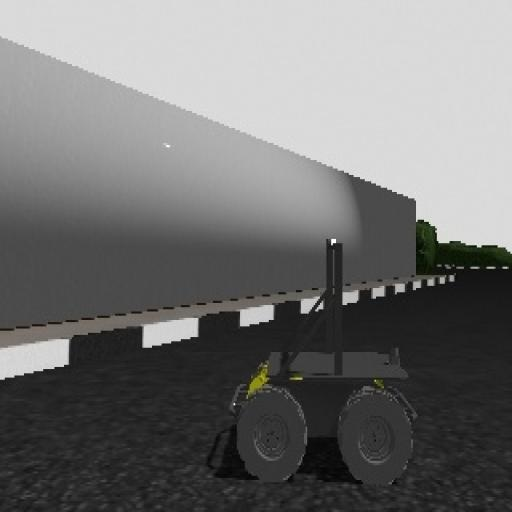huskya200: (206, 227, 434, 497)
